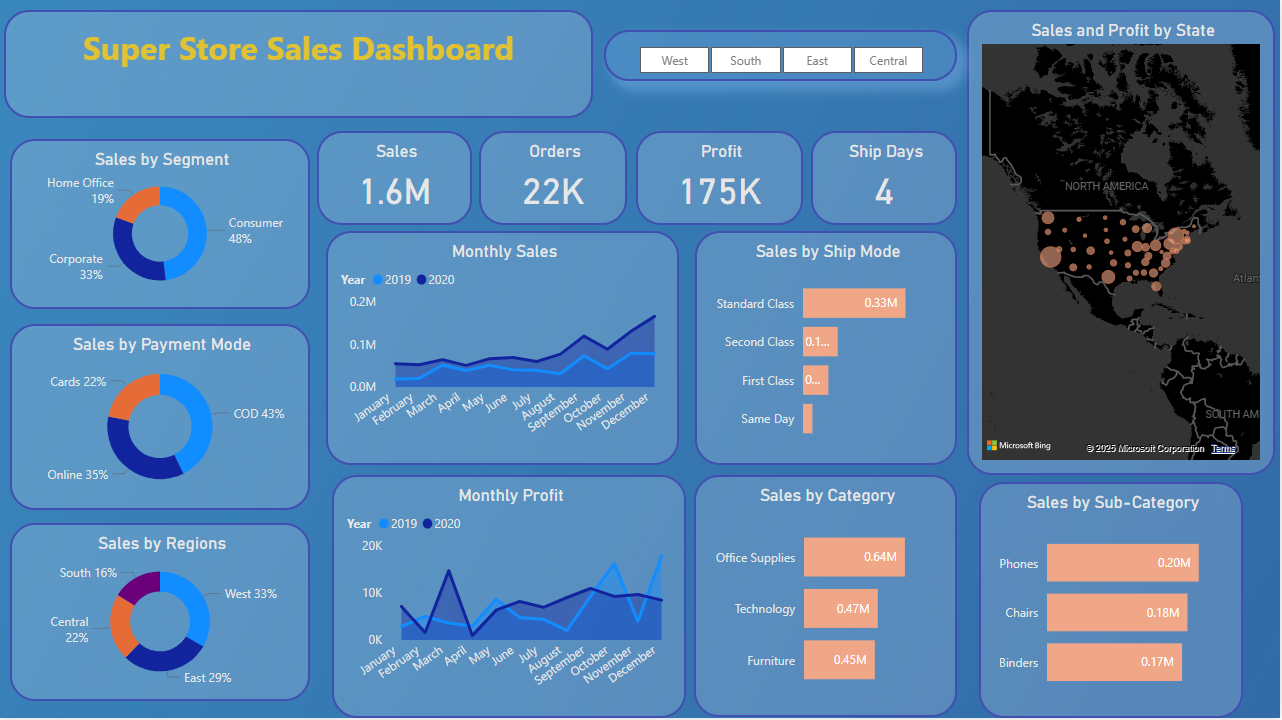

What the dashboard file says about the page in this screenshot:
{"tool":"powerbi","page":{"name":"Page 1","canvas":[1280,720],"ordinal":0},"visuals":[{"type":"clusteredBarChart","title":"Sales by Category","fields":{"Category":["SuperStore_Sales_Dataset_CLEAN.Category"],"Y":["Sum(SuperStore_Sales_Dataset_CLEAN.Sales)"]},"box":[694.5,476.6,262.6,242.2],"z":0},{"type":"clusteredBarChart","title":"Sales by Sub-Category","fields":{"Category":["SuperStore_Sales_Dataset_CLEAN.Sub-Category"],"Y":["Sum(SuperStore_Sales_Dataset_CLEAN.Sales)"]},"box":[979.5,484.4,263.6,235.4],"z":1000},{"type":"clusteredBarChart","title":"Sales by Ship Mode","fields":{"Y":["Sum(SuperStore_Sales_Dataset_CLEAN.Sales)"],"Category":["SuperStore_Sales_Dataset_CLEAN.Ship Mode"]},"box":[695.4,233.4,261.6,233.4],"z":2000},{"type":"areaChart","title":"Monthly Sales","fields":{"Y":["Sum(SuperStore_Sales_Dataset_CLEAN.Sales)"],"Category":["SuperStore_Sales_Dataset_CLEAN.Order Date.Variation.Date Hierarchy.Month","SuperStore_Sales_Dataset_CLEAN.Order Date.Variation.Date Hierarchy.Day"],"Series":["SuperStore_Sales_Dataset_CLEAN.Order Date.Variation.Date Hierarchy.Year"]},"box":[325.8,233.4,353.1,233.4],"z":3000},{"type":"areaChart","title":"Monthly Profit","fields":{"Category":["SuperStore_Sales_Dataset_CLEAN.Order Date.Variation.Date Hierarchy.Month","SuperStore_Sales_Dataset_CLEAN.Order Date.Variation.Date Hierarchy.Day"],"Series":["SuperStore_Sales_Dataset_CLEAN.Order Date.Variation.Date Hierarchy.Year"],"Y":["Sum(SuperStore_Sales_Dataset_CLEAN.Profit)"]},"box":[331.7,476.6,354,243.2],"z":4000},{"type":"map","title":"Sales and  Profit by State","fields":{"Category":["SuperStore_Sales_Dataset_CLEAN.State"],"Size":["Sum(SuperStore_Sales_Dataset_CLEAN.Sales)"]},"box":[966.8,11.7,308.3,464.9],"z":5000},{"type":"donutChart","title":"Sales by Segment","fields":{"Category":["SuperStore_Sales_Dataset_CLEAN.Segment"],"Y":["Sum(SuperStore_Sales_Dataset_CLEAN.Sales)"]},"box":[9.7,141,300.5,170.2],"z":6000},{"type":"donutChart","title":"Sales by Regions","fields":{"Y":["Sum(SuperStore_Sales_Dataset_CLEAN.Sales)"],"Category":["SuperStore_Sales_Dataset_CLEAN.Region"]},"box":[9.7,525.2,300.5,178],"z":7000},{"type":"donutChart","title":"Sales by Payment Mode","fields":{"Y":["Sum(SuperStore_Sales_Dataset_CLEAN.Sales)"],"Category":["SuperStore_Sales_Dataset_CLEAN.Payment Mode"]},"box":[9.7,325.8,300.5,185.8],"z":8000},{"type":"slicer","fields":{"Values":["SuperStore_Sales_Dataset_CLEAN.Region"]},"box":[604,32,353,51],"z":9000},{"type":"textbox","box":[3.9,11.7,589.4,108],"z":10000},{"type":"card","title":"Sales","fields":{"Values":["Sum(SuperStore_Sales_Dataset_CLEAN.Sales)"]},"box":[317.1,133.3,154.7,93.4],"z":11000},{"type":"card","title":"Orders","fields":{"Values":["Sum(SuperStore_Sales_Dataset_CLEAN.Quantity)"]},"box":[478.5,133.3,148.8,93.4],"z":12000},{"type":"card","title":"Profit","fields":{"Values":["Sum(SuperStore_Sales_Dataset_CLEAN.Profit)"]},"box":[636.1,133.3,167.3,93.4],"z":13000},{"type":"card","title":"Ship Days","fields":{"Values":["Avg(SuperStore_Sales_Dataset_CLEAN.AvgDelivery)"]},"box":[811.2,133.3,145.9,93.4],"z":14000}]}

Visuals, with their boxes in screenshot pixels (x1, y1, x2, y2), scaled from the page's 1280x720 canvas onto the 1282x720 screenshot:
"Sales by Category" clusteredBarChart: 696:477:959:719
"Sales by Sub-Category" clusteredBarChart: 981:484:1245:719
"Sales by Ship Mode" clusteredBarChart: 696:233:958:467
"Monthly Sales" areaChart: 326:233:680:467
"Monthly Profit" areaChart: 332:477:687:719
"Sales and  Profit by State" map: 968:12:1277:477
"Sales by Segment" donutChart: 10:141:311:311
"Sales by Regions" donutChart: 10:525:311:703
"Sales by Payment Mode" donutChart: 10:326:311:512
slicer - SuperStore_Sales_Dataset_CLEAN.Region: 605:32:958:83
textbox: 4:12:594:120
"Sales" card: 318:133:473:227
"Orders" card: 479:133:628:227
"Profit" card: 637:133:805:227
"Ship Days" card: 812:133:959:227
